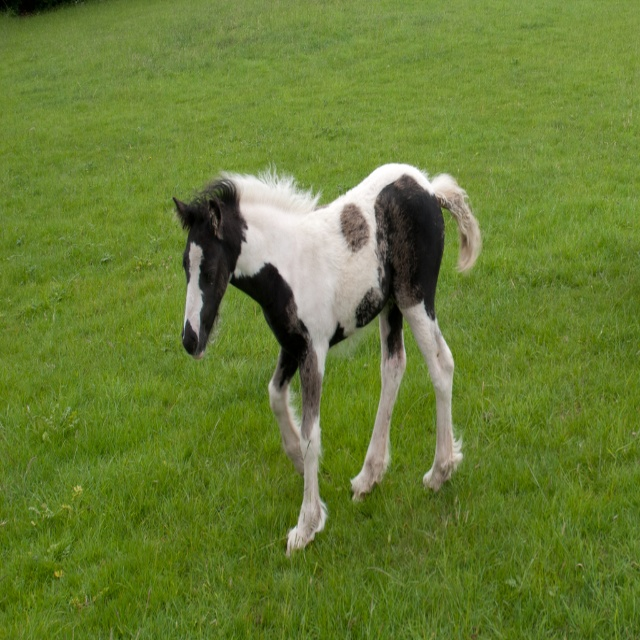Horse: (172, 162, 482, 558)
